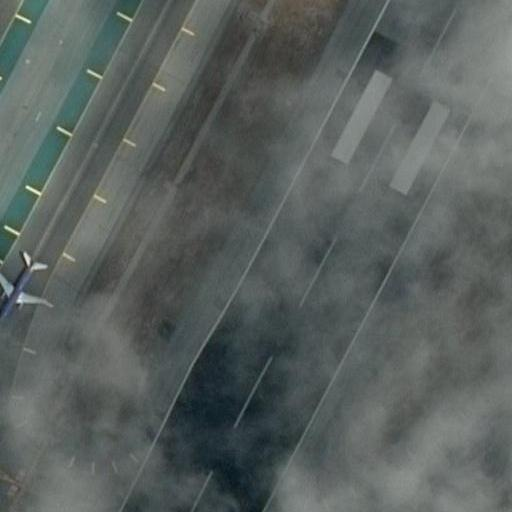Aircraft: (0, 241, 49, 319)
